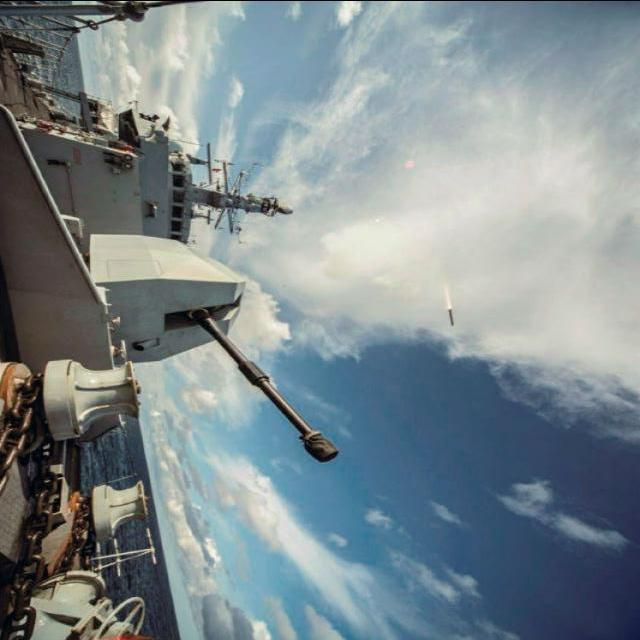missile: (446, 301, 458, 329)
